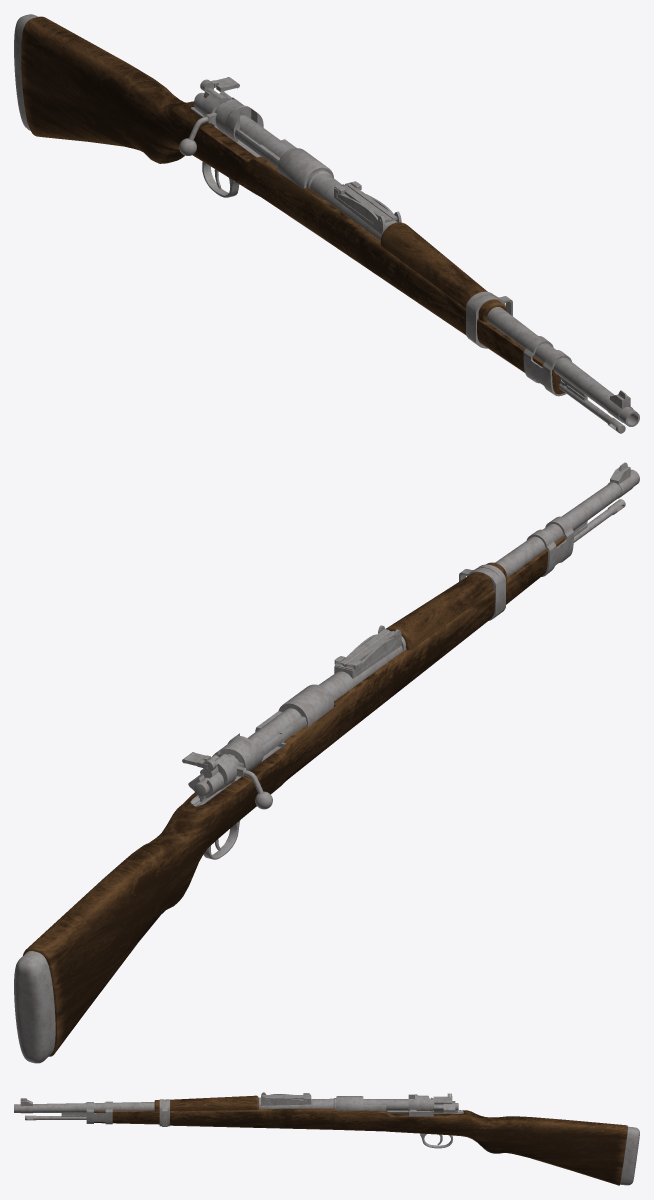
File: kar98k.fbx
The picture shows the model from 3 angles, top to bottom: view 1: azimuth 30°, elevation 25°; view 2: azimuth 150°, elevation 25°; view 3: azimuth 270°, elevation 25°; orthographic projection. The views are drawn at different scales.
Parts seen in each view (by area): view 1: Kar98k; view 2: Kar98k; view 3: Kar98k.
Boxes of the visible parts, x1,y1,x2,y2 form: Kar98k: (14, 14, 639, 433); Kar98k: (14, 462, 639, 1063); Kar98k: (14, 1092, 639, 1185).
Bounding box in the file's own units: 7.3 × 17.52 × 110.
2 materials, 2 textured.
